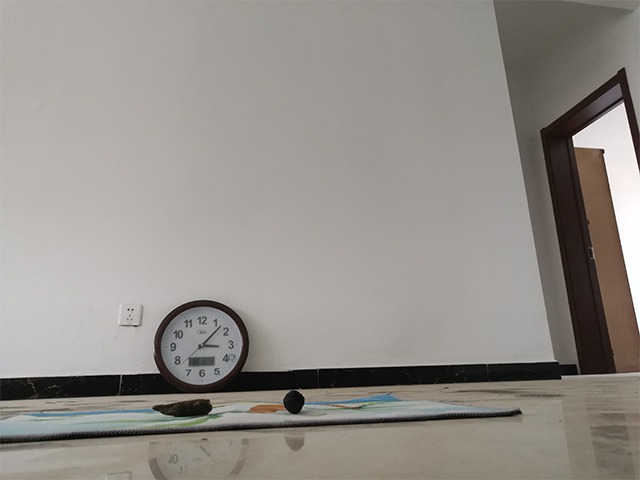carpet: (1, 392, 523, 446)
feces: (149, 398, 213, 418), (281, 389, 306, 415)
